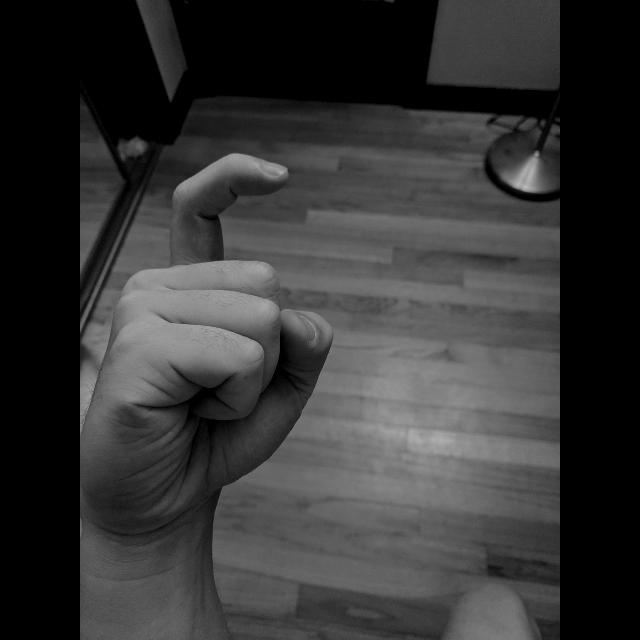X: (80, 147, 338, 538)
